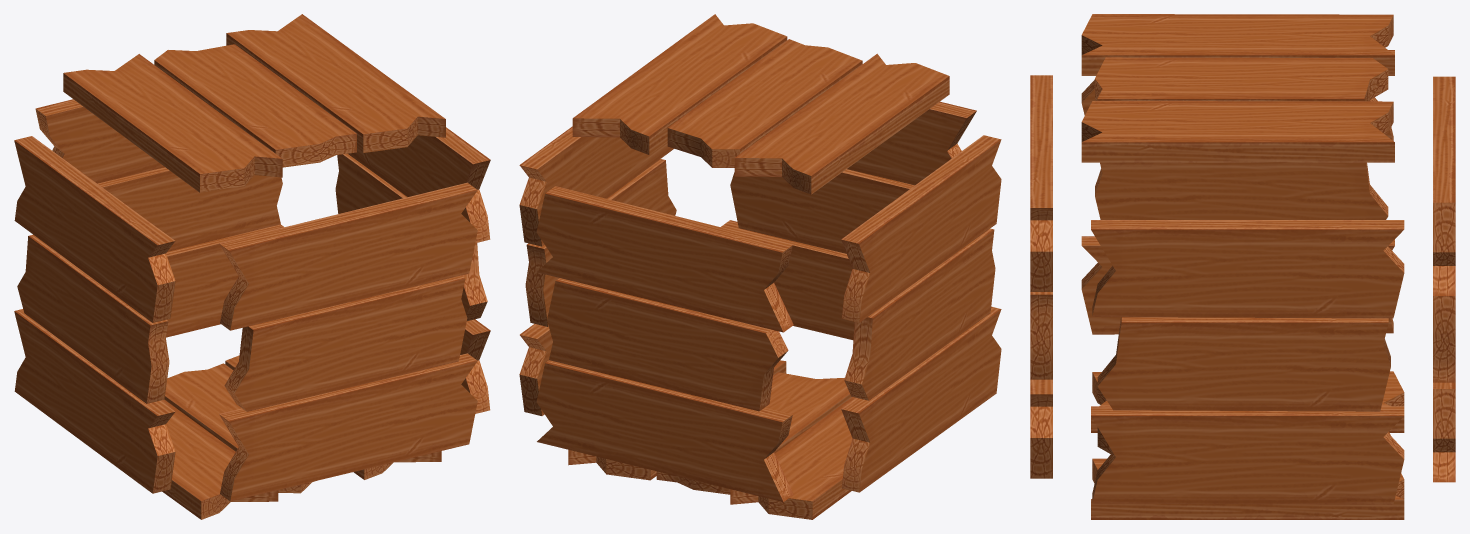
The model's file is Crate_Broken.fbx.
The picture shows the model from 3 angles, left to right: view 1: azimuth 30°, elevation 25°; view 2: azimuth 150°, elevation 25°; view 3: azimuth 270°, elevation 25°; orthographic projection. The views are drawn at different scales.
Visible parts, largest first — view 1: Cube.005, Cube.003, Cube.001, Cube.011, Cube.015, Cube.009, Cube.017, Cube.010, Cube.016, Cube.004, Cube.008, Cube (+6 smaller); view 2: Cube, Cube.002, Cube.004, Cube.011, Cube.015, Cube.009, Cube.017, Cube.010, Cube.016, Cube.001, Cube.008, Cube.012 (+6 smaller); view 3: Cube.008, Cube.006, Cube.007, Cube.017, Cube.010, Cube.015, Cube.016, Cube.014, Cube, Cube.005, Cube.002, Cube.003 (+4 smaller).
Part boxes in pixels (left/top/right/bottom): Cube.005: left=219, top=182, right=477, bottom=330; Cube.003: left=219, top=353, right=477, bottom=501; Cube.001: left=224, top=275, right=467, bottom=411; Cube.011: left=14, top=136, right=175, bottom=322; Cube.015: left=63, top=54, right=282, bottom=192; Cube.009: left=14, top=309, right=175, bottom=493; Cube.017: left=226, top=14, right=445, bottom=152; Cube.010: left=17, top=234, right=169, bottom=403; Cube.016: left=154, top=44, right=356, bottom=167; Cube.004: left=97, top=167, right=282, bottom=251; Cube.008: left=348, top=127, right=490, bottom=242; Cube: left=35, top=99, right=164, bottom=183; Cube: left=536, top=186, right=793, bottom=332; Cube.002: left=536, top=360, right=793, bottom=501; Cube.004: left=547, top=278, right=788, bottom=411; Cube.011: left=841, top=135, right=1001, bottom=322; Cube.015: left=734, top=53, right=949, bottom=194; Cube.009: left=841, top=306, right=1001, bottom=492; Cube.017: left=572, top=14, right=787, bottom=154; Cube.010: left=844, top=228, right=995, bottom=400; Cube.016: left=667, top=39, right=862, bottom=167; Cube.001: left=730, top=169, right=914, bottom=253; Cube.008: left=519, top=126, right=673, bottom=246; Cube.012: left=730, top=397, right=856, bottom=519; Cube.008: left=1091, top=220, right=1404, bottom=318; Cube.006: left=1091, top=406, right=1404, bottom=504; Cube.007: left=1097, top=317, right=1390, bottom=411; Cube.017: left=1081, top=101, right=1394, bottom=162; Cube.010: left=1095, top=162, right=1388, bottom=219; Cube.015: left=1081, top=14, right=1394, bottom=75; Cube.016: left=1095, top=57, right=1388, bottom=101; Cube.014: left=1091, top=458, right=1404, bottom=519; Cube: left=1433, top=76, right=1455, bottom=295; Cube.005: left=1030, top=75, right=1052, bottom=291; Cube.002: left=1433, top=382, right=1455, bottom=482; Cube.003: left=1030, top=379, right=1052, bottom=478.
Bounding box in the file's own units: 202 × 198 × 202.
